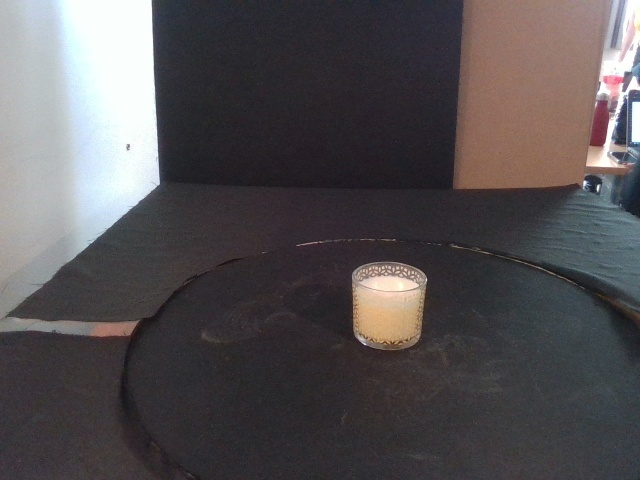candle: (351, 260, 427, 351)
